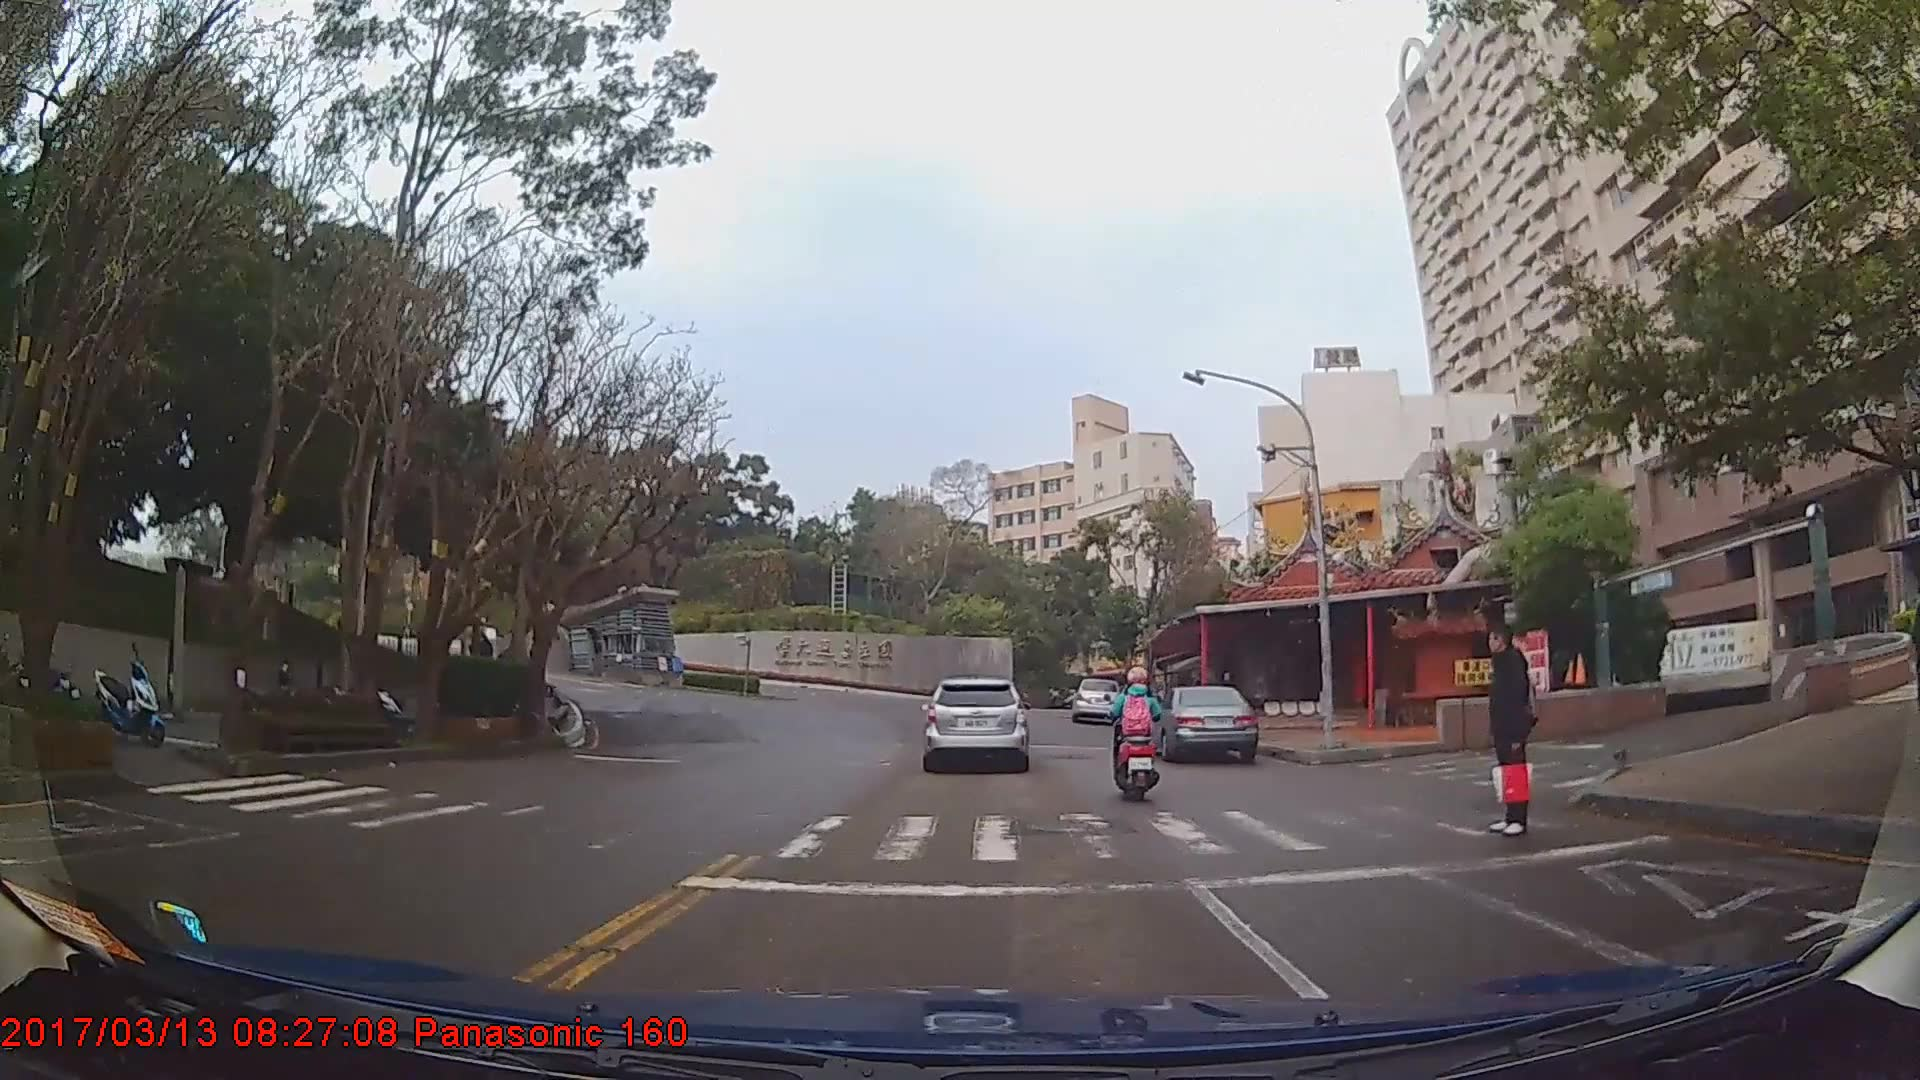pedestrian: (1486, 620, 1540, 837)
rider: (1109, 666, 1170, 809)
vehicle: (923, 670, 1028, 768), (1145, 685, 1255, 764), (1069, 676, 1119, 724)
